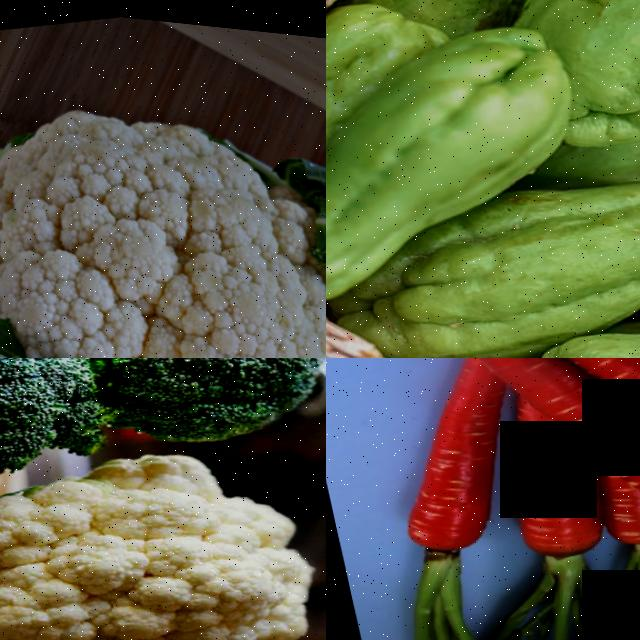broccoli: (0, 358, 326, 524)
carrot: (499, 390, 603, 571), (507, 588, 509, 590)
cauliflower: (0, 71, 326, 358), (0, 378, 326, 640)
chayote: (349, 126, 640, 358), (326, 22, 574, 206), (532, 0, 640, 133)
